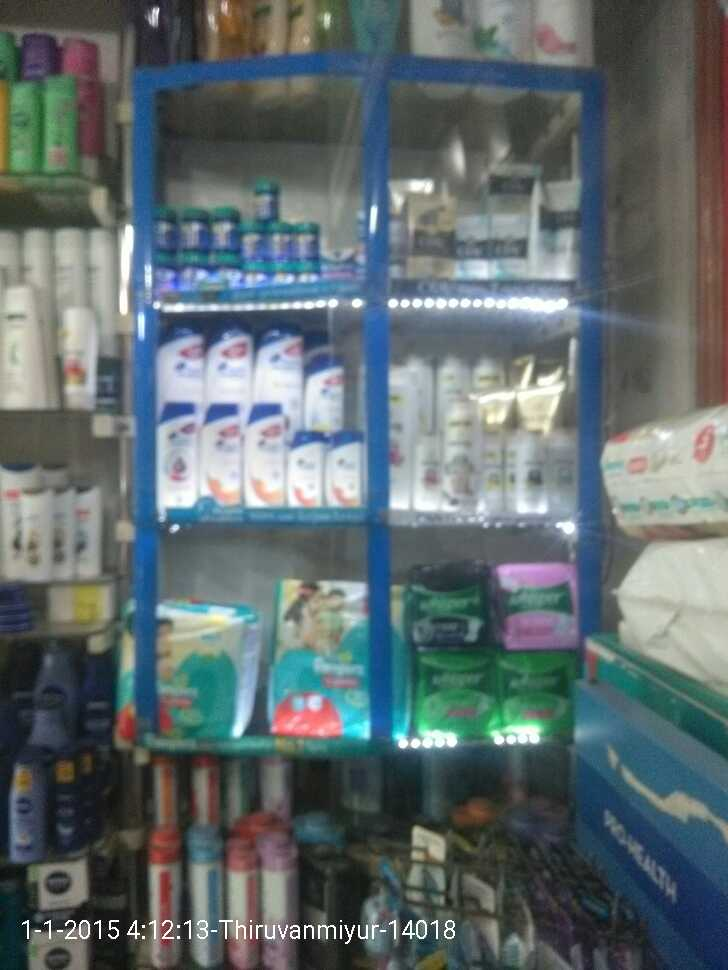vicks: (151, 174, 371, 280)
